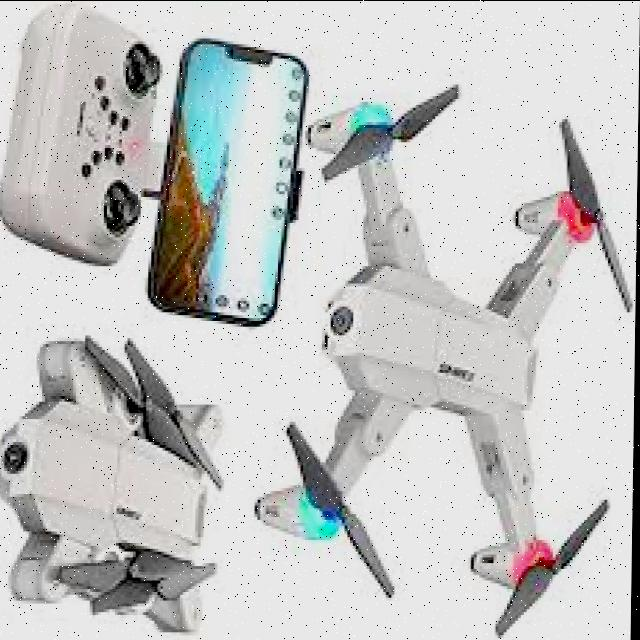drone: (244, 56, 632, 640)
